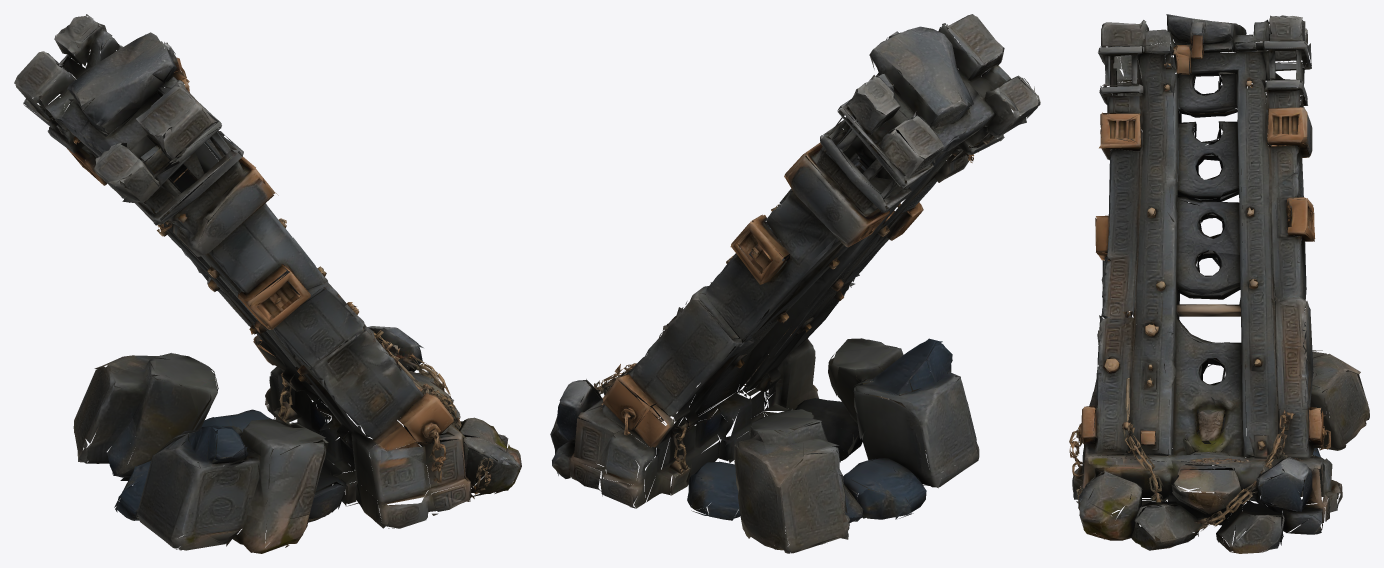
The model's file is ch3_broken_pylon_b_LOD1.glb.
The picture shows the model from 3 angles, left to right: view 1: azimuth 30°, elevation 25°; view 2: azimuth 150°, elevation 25°; view 3: azimuth 270°, elevation 25°; orthographic projection. The views are drawn at different scales.
Visible parts, largest first — view 1: tripo_node_7c5f5e39-295b-4532-9354-16df792670c5; view 2: tripo_node_7c5f5e39-295b-4532-9354-16df792670c5; view 3: tripo_node_7c5f5e39-295b-4532-9354-16df792670c5.
Boxes of the visible parts, x1,y1,x2,y2 form: tripo_node_7c5f5e39-295b-4532-9354-16df792670c5: (14, 14, 521, 553); tripo_node_7c5f5e39-295b-4532-9354-16df792670c5: (550, 14, 1040, 553); tripo_node_7c5f5e39-295b-4532-9354-16df792670c5: (1069, 14, 1369, 553).
Bounding box in the file's own units: 0.9318 × 1 × 0.6755.
Materials: 1 (1 with a texture image).
